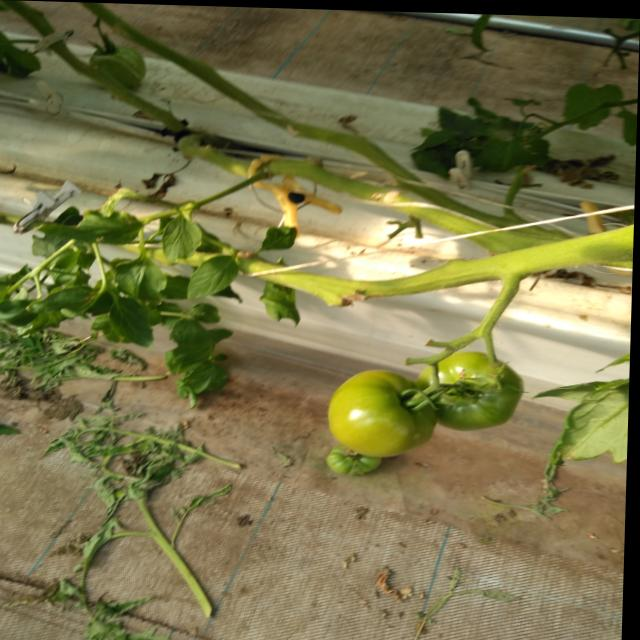yesil: (336, 330, 534, 474)
